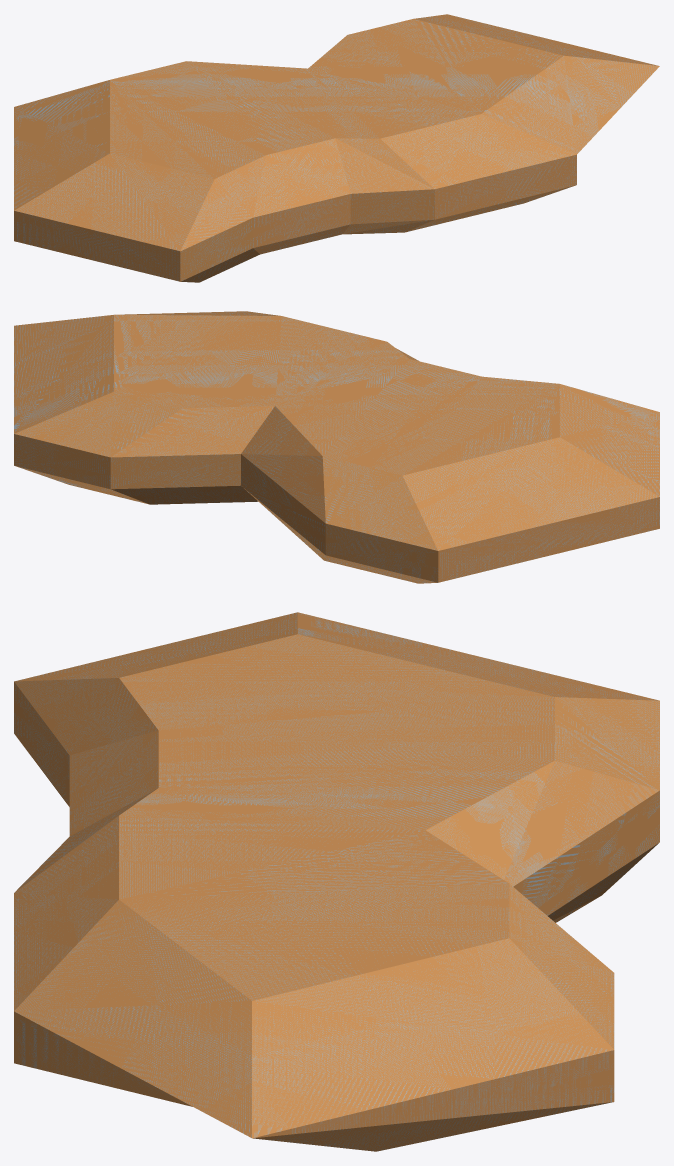
File: Rock_Large_Flat_Dirt_02.fbx
3 views of the same model, one above another, from view 1: azimuth 30°, elevation 25°; view 2: azimuth 150°, elevation 25°; view 3: azimuth 270°, elevation 25° (orthographic). The views are drawn at different scales.
Parts seen in each view (by area): view 1: Model; view 2: Model; view 3: Model.
Boxes of the visible parts, <box> form: Model: <box>14,14,659,282</box>; Model: <box>14,311,659,583</box>; Model: <box>14,612,659,1151</box>.
Bounding box in the file's own units: 787 × 103 × 408.
